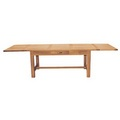obstacle: (3, 44, 117, 77)
